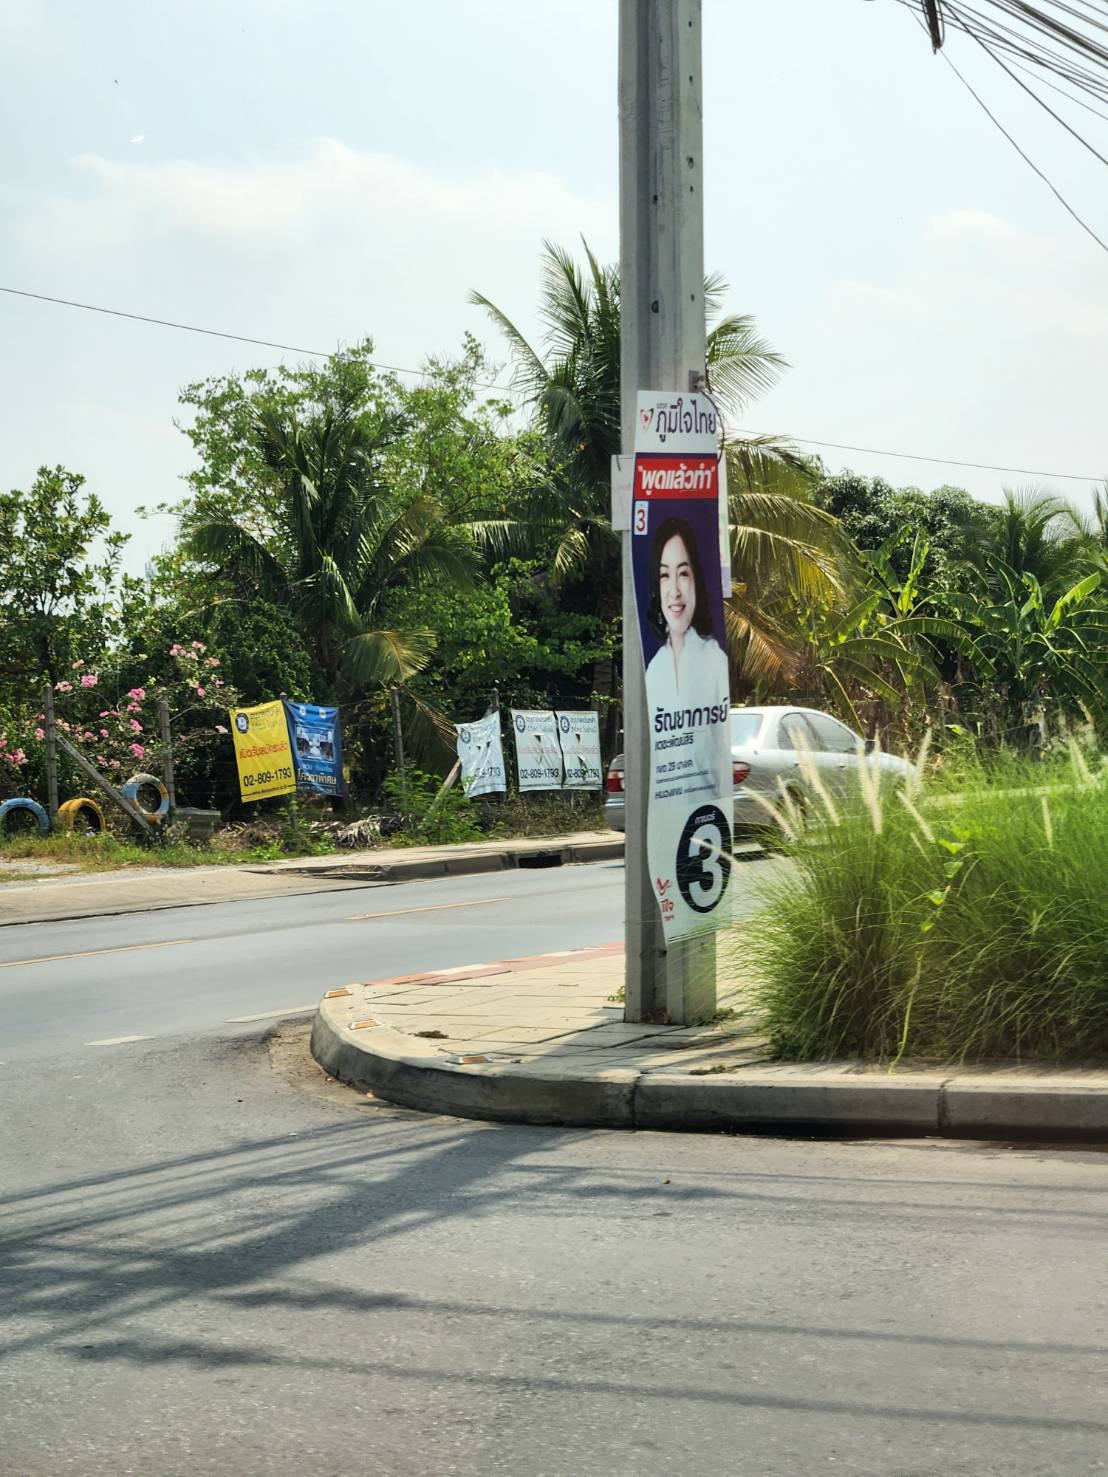Banner: (628, 388, 754, 945)
